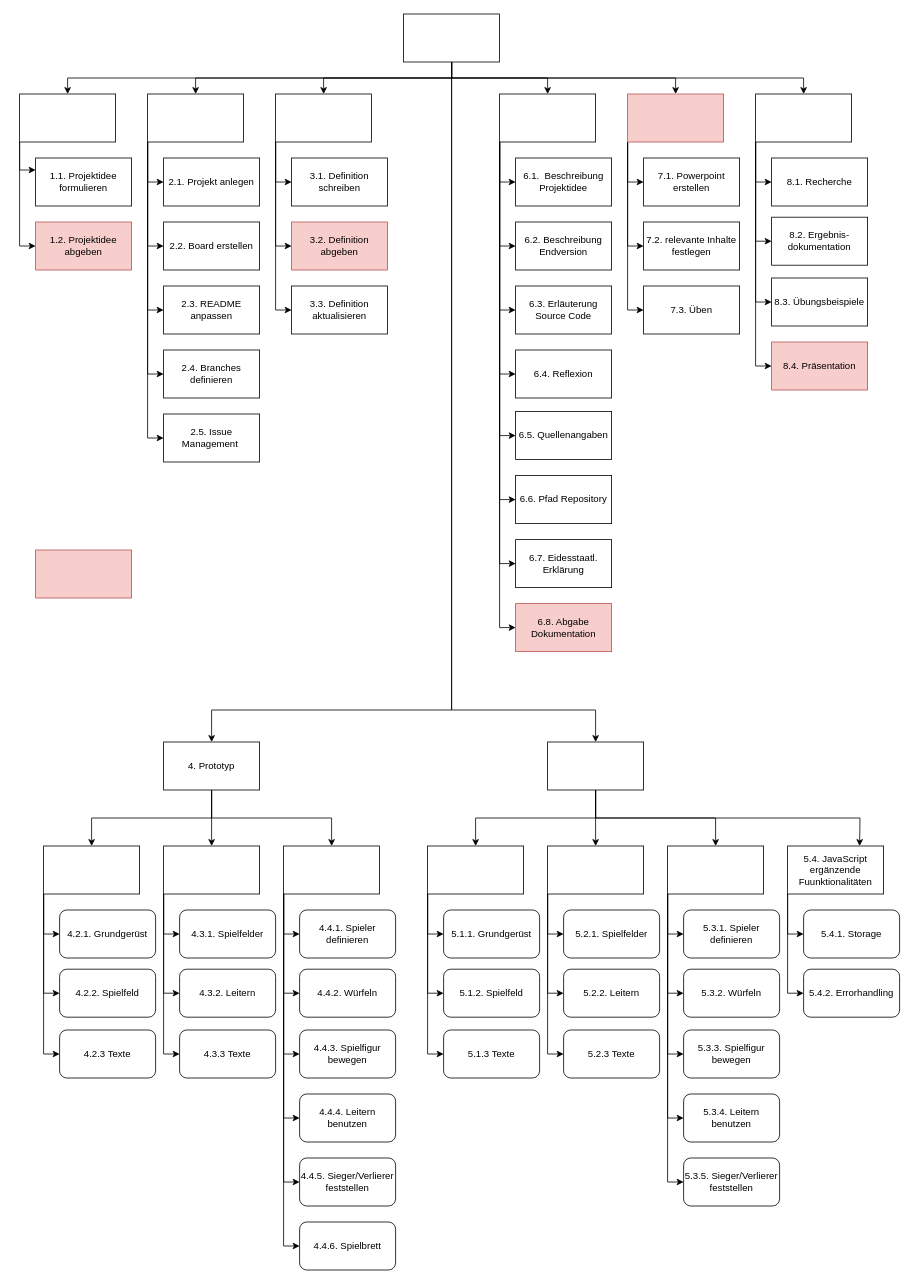
Image size: 914x1284. Some labels were removed from this diagram. Here are the shapes that lost their labels. From the top down, the box of each, then its label:
(403, 13, 500, 62): Leiterlispiel
(19, 93, 116, 142): 1. Projektidee
(147, 93, 244, 142): 2. GitLab
(275, 93, 372, 142): 3. Schnittstellendefinition
(499, 93, 596, 142): 6. Dokumentation
(627, 93, 724, 142): 7. Präsentation
(755, 93, 852, 142): 8. JavaScript Libraries
(35, 549, 132, 598): Meilensteine
(547, 741, 644, 790): 5. Spiel
(43, 845, 140, 894): 4.2. HTML
(163, 845, 260, 894): 4.3. CSS
(283, 845, 380, 894): 4.4. JavaScript
(427, 845, 524, 894): 5.1. HTML überarbeiten
(547, 845, 644, 894): 5.2. CSS überarbeiten
(667, 845, 764, 894): 5.3. JavaScript überarbeiten
